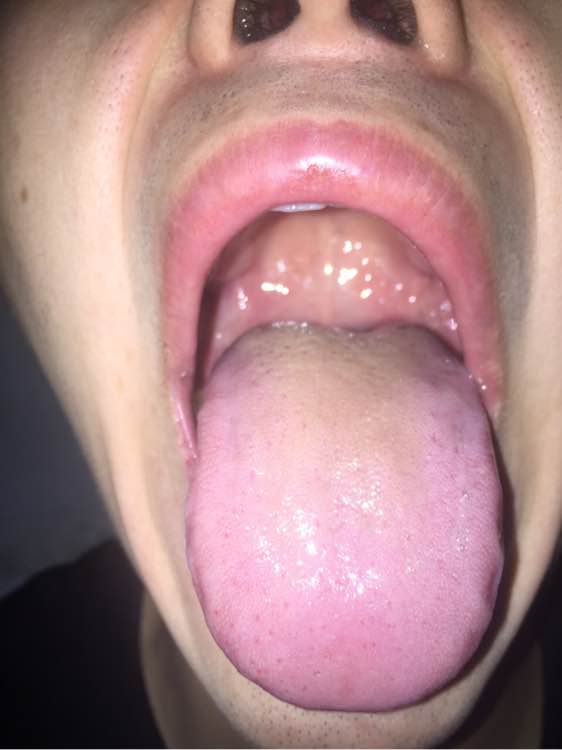hongdianshe: (212, 608, 219, 616)
huangtaishe: (186, 322, 504, 711)
